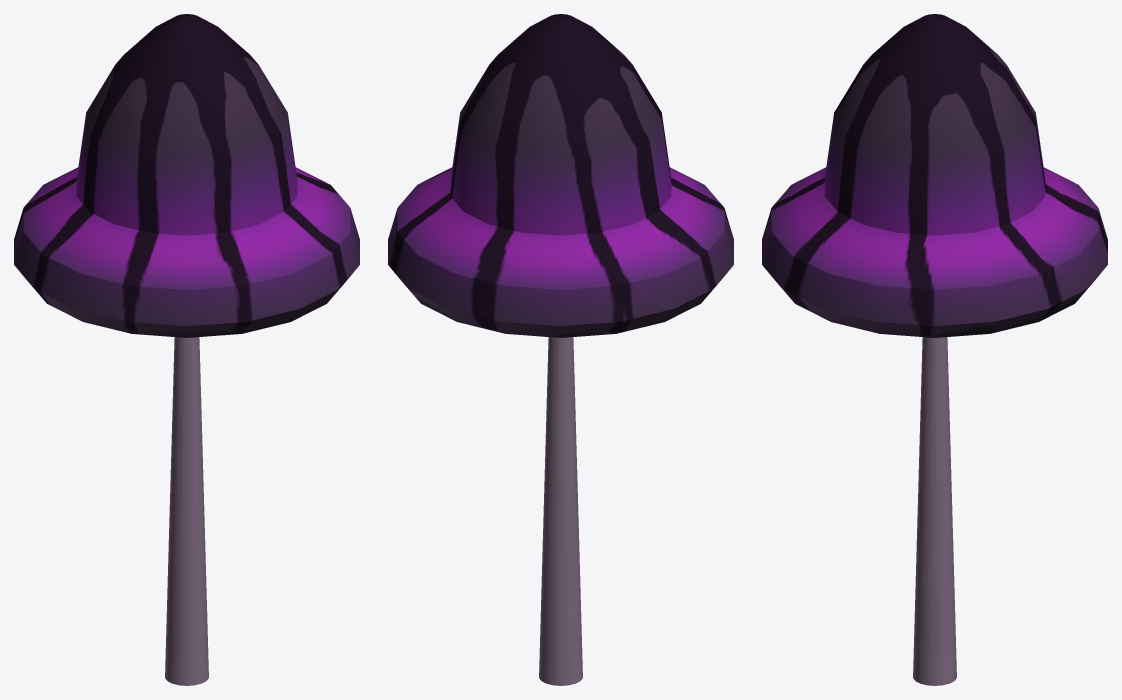
Rendered from mushroom2.fbx.
3 views of the same model, side by side, from view 1: azimuth 30°, elevation 25°; view 2: azimuth 150°, elevation 25°; view 3: azimuth 270°, elevation 25° (orthographic).
Parts seen in each view (by area): view 1: Mushroom2; view 2: Mushroom2; view 3: Mushroom2.
Boxes of the visible parts, x1,y1,x2,y2 form: Mushroom2: [14, 14, 359, 685]; Mushroom2: [388, 14, 733, 685]; Mushroom2: [762, 14, 1107, 685].
Size of the model in its own units: 33.56 by 69.6 by 33.05.
1 material, 1 textured.
